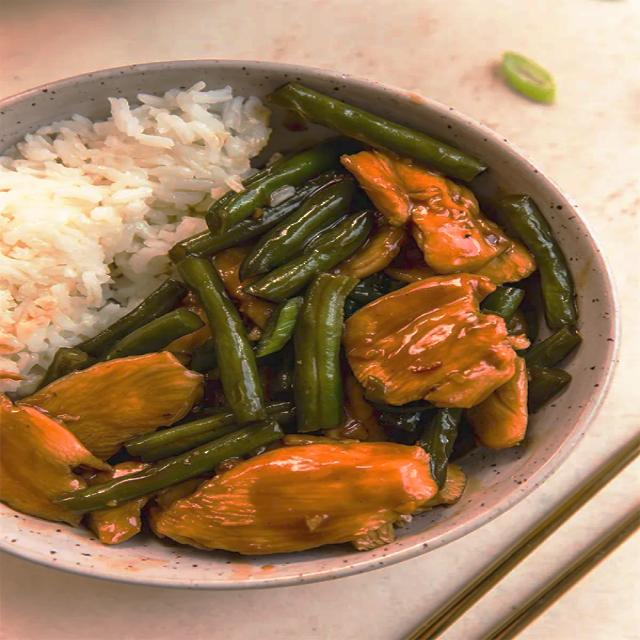Kung Pao Chicken: (352, 153, 485, 484)
rice: (50, 84, 262, 188), (46, 188, 151, 301), (1, 133, 44, 388)
